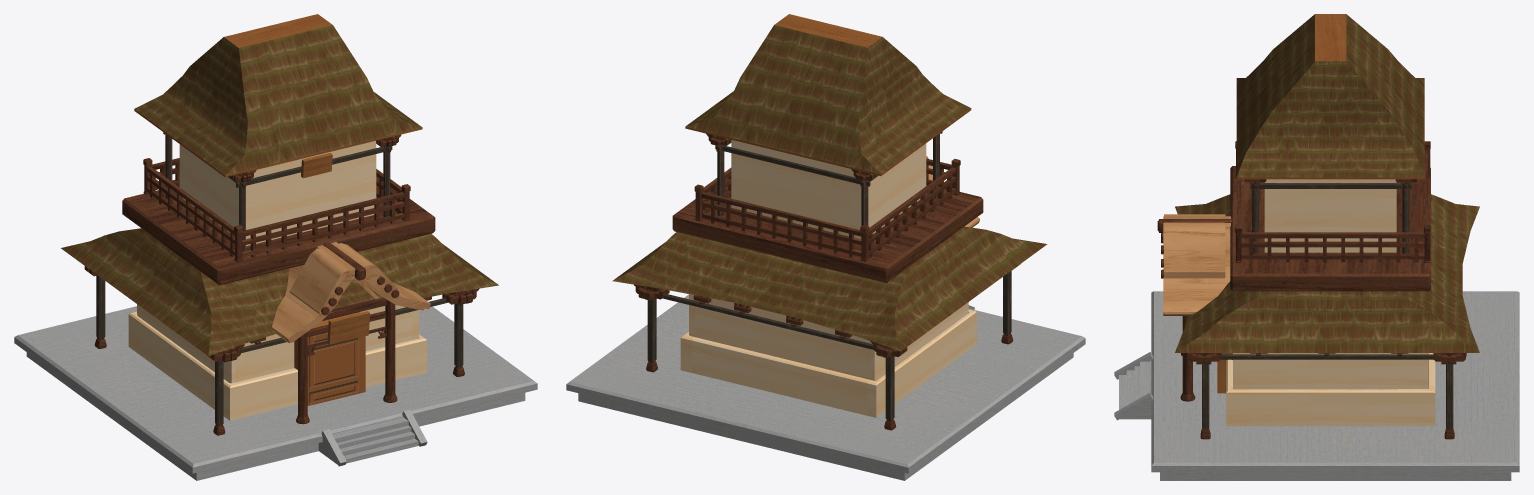
The model's file is jiulou.fbx.
3 renders of one model, left to right at view 1: azimuth 30°, elevation 25°; view 2: azimuth 150°, elevation 25°; view 3: azimuth 270°, elevation 25°, orthographic. The views are drawn at different scales.
Parts seen in each view (by area): view 1: polySurface870, polySurface880, polySurface879, polySurface866, polySurface867, polySurface868, polySurface869, polySurface942, polySurface881, polySurface875, polySurface874, polySurface872 (+10 smaller); view 2: polySurface870, polySurface880, polySurface879, polySurface868, polySurface866, polySurface867, polySurface869, polySurface946, polySurface944, polySurface922, polySurface899, polySurface923 (+2 smaller); view 3: polySurface870, polySurface880, polySurface879, polySurface867, polySurface868, polySurface866, polySurface869, polySurface948, polySurface875, polySurface874, polySurface872, polySurface921 (+6 smaller).
Boxes of the visible parts, left/top/right/bottom form: polySurface870: left=14, top=306, right=537, bottom=480; polySurface880: left=134, top=14, right=422, bottom=177; polySurface879: left=61, top=228, right=498, bottom=356; polySurface866: left=179, top=141, right=376, bottom=246; polySurface867: left=122, top=176, right=435, bottom=285; polySurface868: left=128, top=311, right=427, bottom=420; polySurface869: left=137, top=304, right=418, bottom=383; polySurface942: left=242, top=192, right=404, bottom=257; polySurface881: left=294, top=312, right=365, bottom=405; polySurface875: left=289, top=243, right=398, bottom=313; polySurface874: left=272, top=242, right=430, bottom=342; polySurface872: left=318, top=417, right=418, bottom=464; polySurface870: left=566, top=294, right=1085, bottom=480; polySurface880: left=685, top=14, right=971, bottom=175; polySurface879: left=612, top=226, right=1047, bottom=351; polySurface868: left=680, top=309, right=976, bottom=417; polySurface866: left=731, top=140, right=926, bottom=239; polySurface867: left=672, top=177, right=983, bottom=283; polySurface869: left=689, top=294, right=968, bottom=380; polySurface946: left=701, top=192, right=861, bottom=257; polySurface944: left=868, top=167, right=955, bottom=257; polySurface922: left=662, top=293, right=873, bottom=349; polySurface899: left=715, top=145, right=870, bottom=186; polySurface923: left=884, top=348, right=896, bottom=430; polySurface870: left=1151, top=291, right=1519, bottom=480; polySurface880: left=1236, top=14, right=1424, bottom=179; polySurface879: left=1175, top=194, right=1479, bottom=352; polySurface867: left=1230, top=166, right=1430, bottom=291; polySurface868: left=1226, top=353, right=1435, bottom=426; polySurface866: left=1264, top=179, right=1396, bottom=252; polySurface869: left=1233, top=353, right=1428, bottom=389; polySurface948: left=1241, top=232, right=1424, bottom=262; polySurface875: left=1164, top=214, right=1225, bottom=278; polySurface874: left=1163, top=216, right=1230, bottom=315; polySurface872: left=1119, top=361, right=1151, bottom=419; polySurface921: left=1221, top=354, right=1433, bottom=359.
Bounding box in the file's own units: 8.79 × 8.51 × 8.68.
